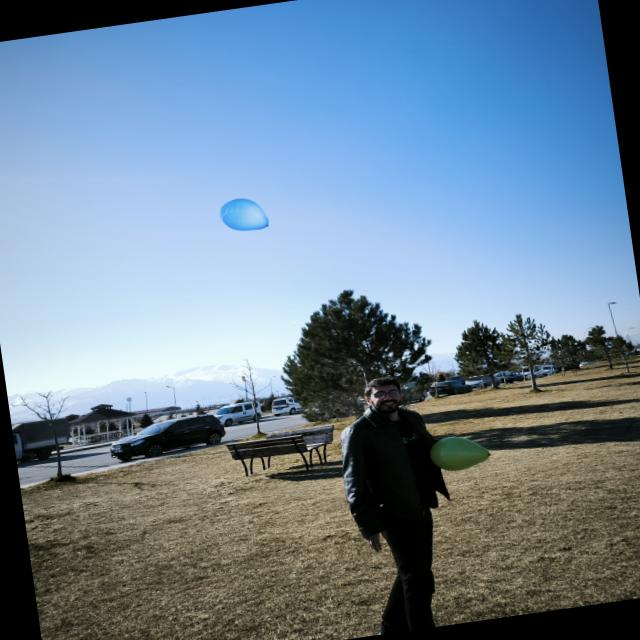balloon: (430, 437, 490, 471), (220, 198, 269, 230)
